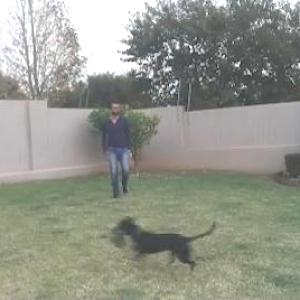follow: (104, 99, 133, 198)
